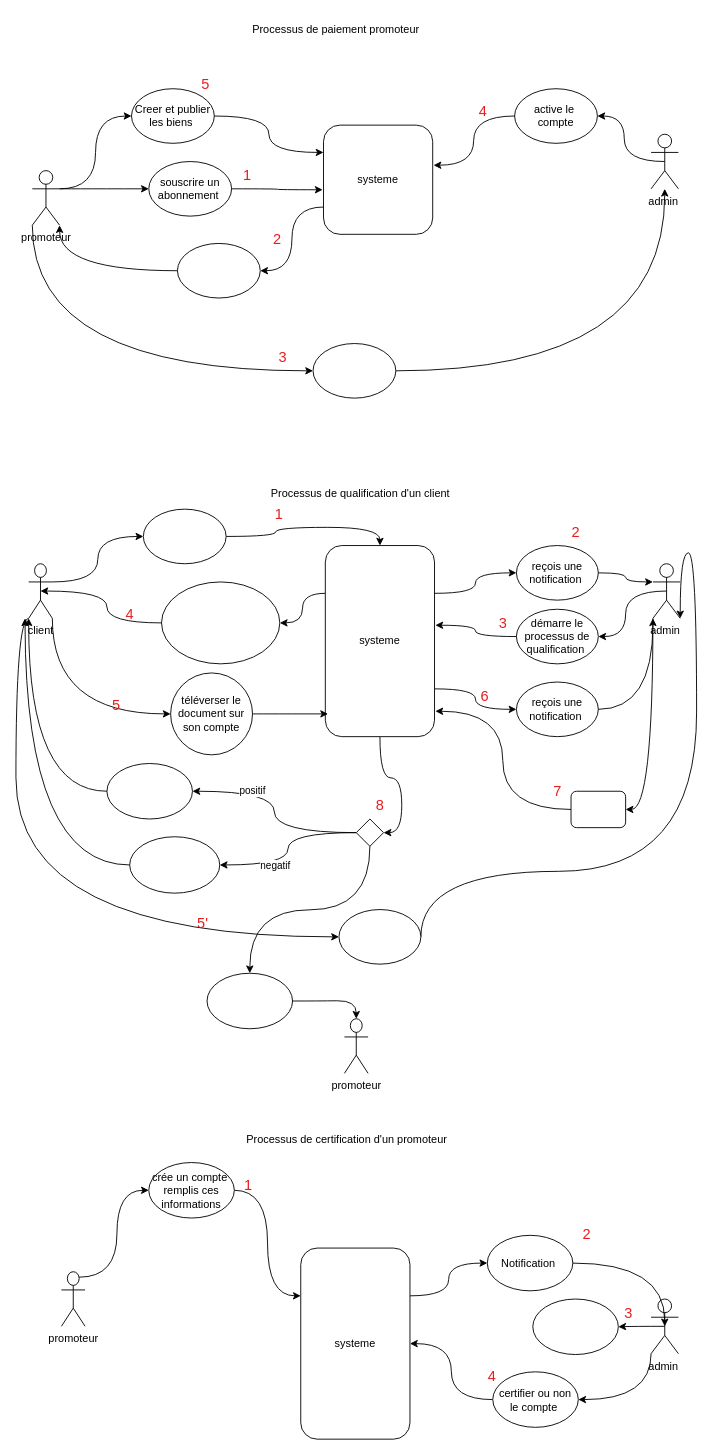
Some shapes in this 713 by 1455 pixel diagram are drawn without their labels. Here are the shapes that lost their labels. From the top down, the centre of each, then its label:
pixel 218 270: envoi un mail de la procedure
pixel 354 370: effectue le paiement
pixel 184 536: intéresser par un bien
pixel 220 622: un mail avec la liste des document a fournir
pixel 149 791: envoie un mail de reussite
pixel 598 809: réponses
pixel 174 864: envoi un mail d'echec
pixel 379 936: envoi les les document
pixel 249 1000: envoie les données et la fiche clients
pixel 575 1326: Verification des données
